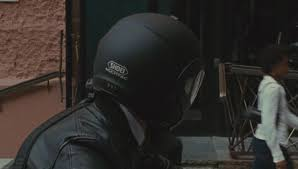helmet: (88, 13, 207, 120)
